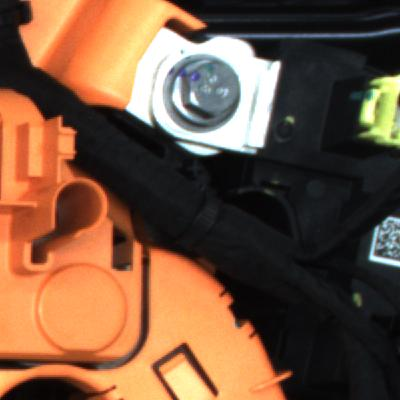nut_b: (168, 45, 259, 139)
